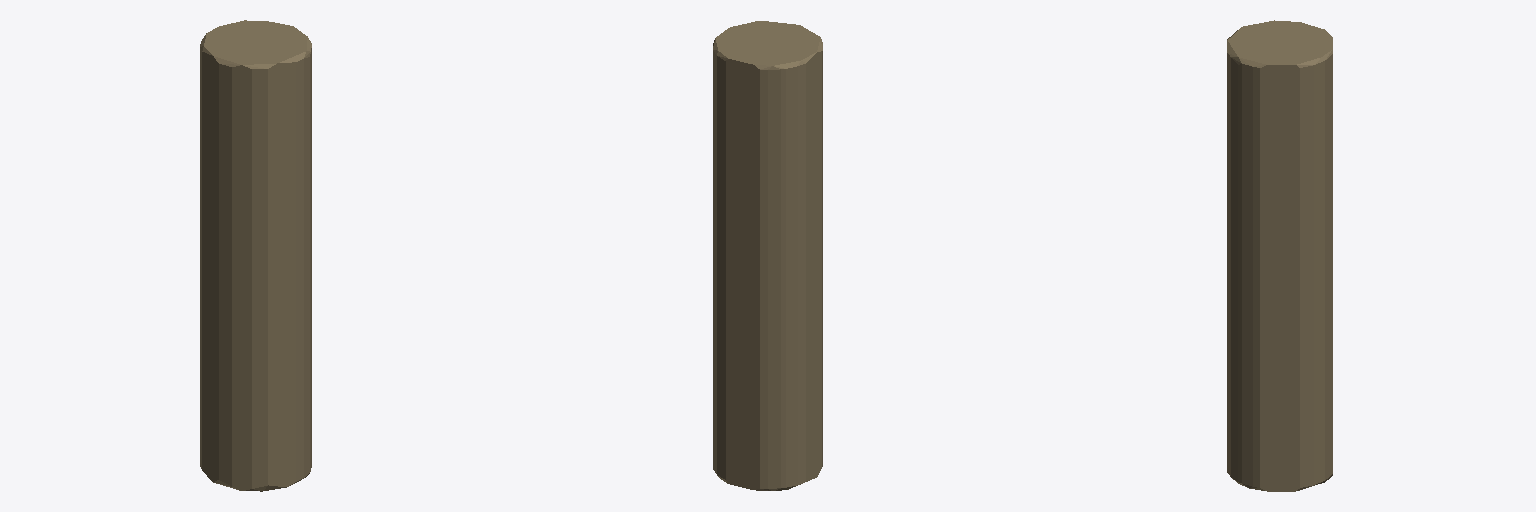
URDF robot description (cylinder_long):
<?xml version="1.0"?>
<robot name="cylinder_long">
  <link name="base_link">
    <visual>
      <origin xyz="0 0 0" rpy="0 0 0" />
      <geometry>
        <mesh filename="cylinder_long.obj" />      
      </geometry>
      <material name="tan">
        <color rgba="0.55 0.5 0.4 1" />
      </material>
    </visual>
    <collision>
      <origin xyz="0 0 0" rpy="0 0 0" />
      <geometry>
        <mesh filename="cylinder_long.obj" />
      </geometry>
    </collision>
  </link>
</robot>

--- Facts derived from the render (not from the file) ---
3 views of the same robot in one strip: view 1: azimuth 30°, elevation 25°; view 2: azimuth 150°, elevation 25°; view 3: azimuth 270°, elevation 25° (orthographic).
Robot: cylinder_long — 1 links, 0 joints (none); root link base_link; default pose: every joint at zero.
Links seen in each view (by area): view 1: base_link; view 2: base_link; view 3: base_link.
Link boxes in pixels (x1,y1,x2,y2): base_link: (200,20,311,491); base_link: (713,21,822,490); base_link: (1227,20,1332,491).
Size in the robot's own frame: 14.28 by 14.28 by 63.99 metres.
1 mesh visuals loaded from 1 distinct referenced files (1 OBJ).
